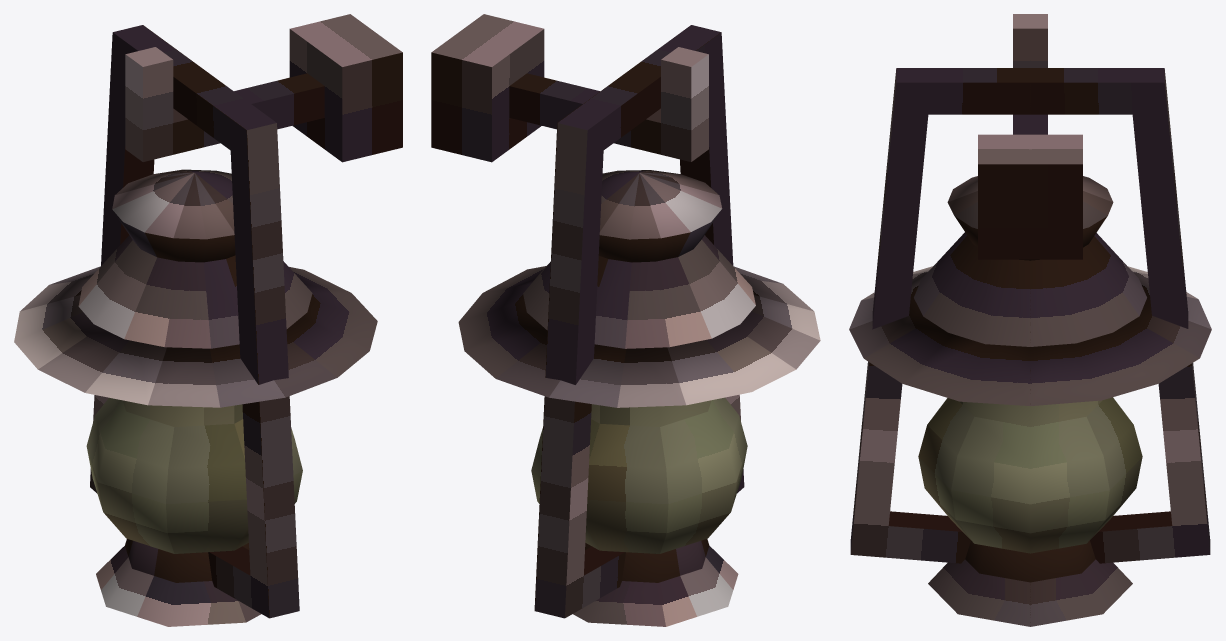
File: ObjMD_Lamp_B.FBX
3 renders of one model, left to right at view 1: azimuth 30°, elevation 25°; view 2: azimuth 150°, elevation 25°; view 3: azimuth 270°, elevation 25°, orthographic.
Visible parts, largest first — view 1: ObjMD_Lamp_B; view 2: ObjMD_Lamp_B; view 3: ObjMD_Lamp_B.
Part boxes in pixels (x1,y1,x2,y2): ObjMD_Lamp_B: (14,14,402,626); ObjMD_Lamp_B: (431,14,820,626); ObjMD_Lamp_B: (849,14,1211,626).
Bounding box in the file's own units: 69.86 × 106 × 64.72.
